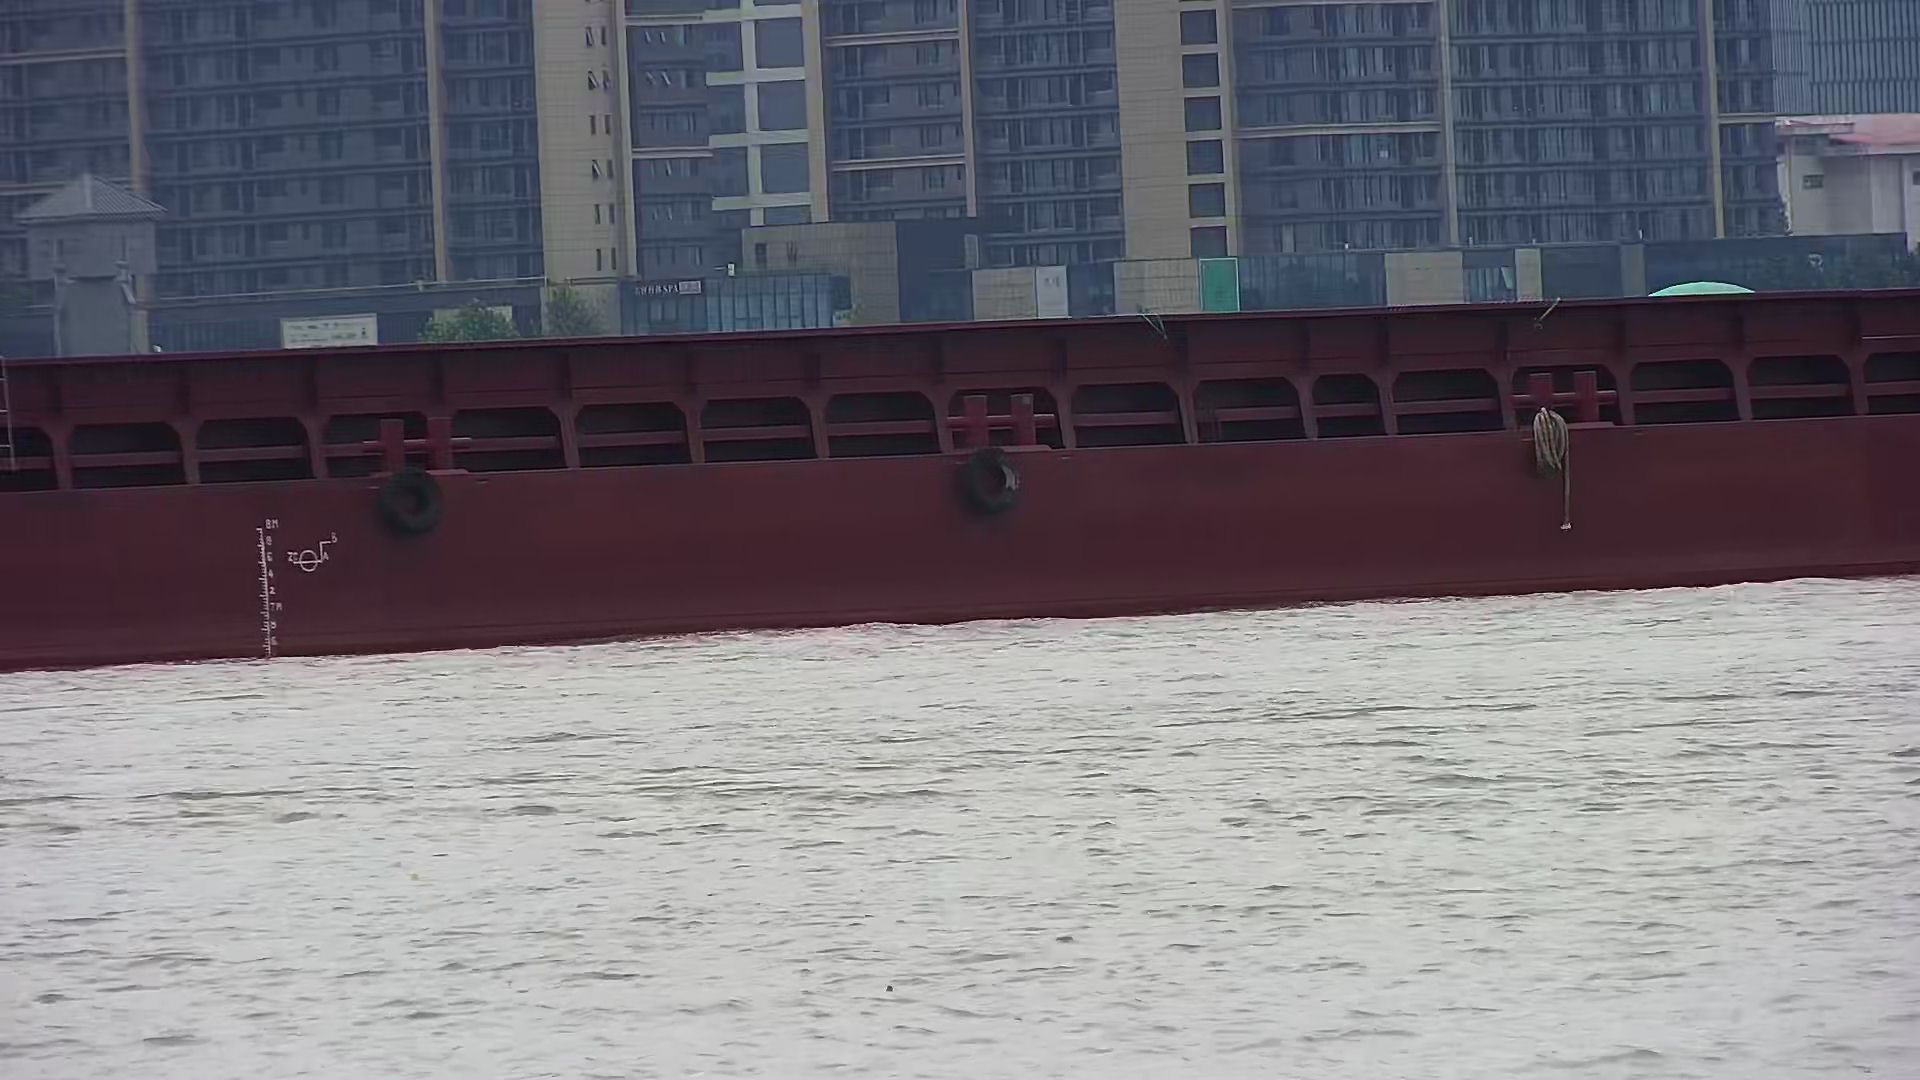ship: (1, 293, 1920, 676)
